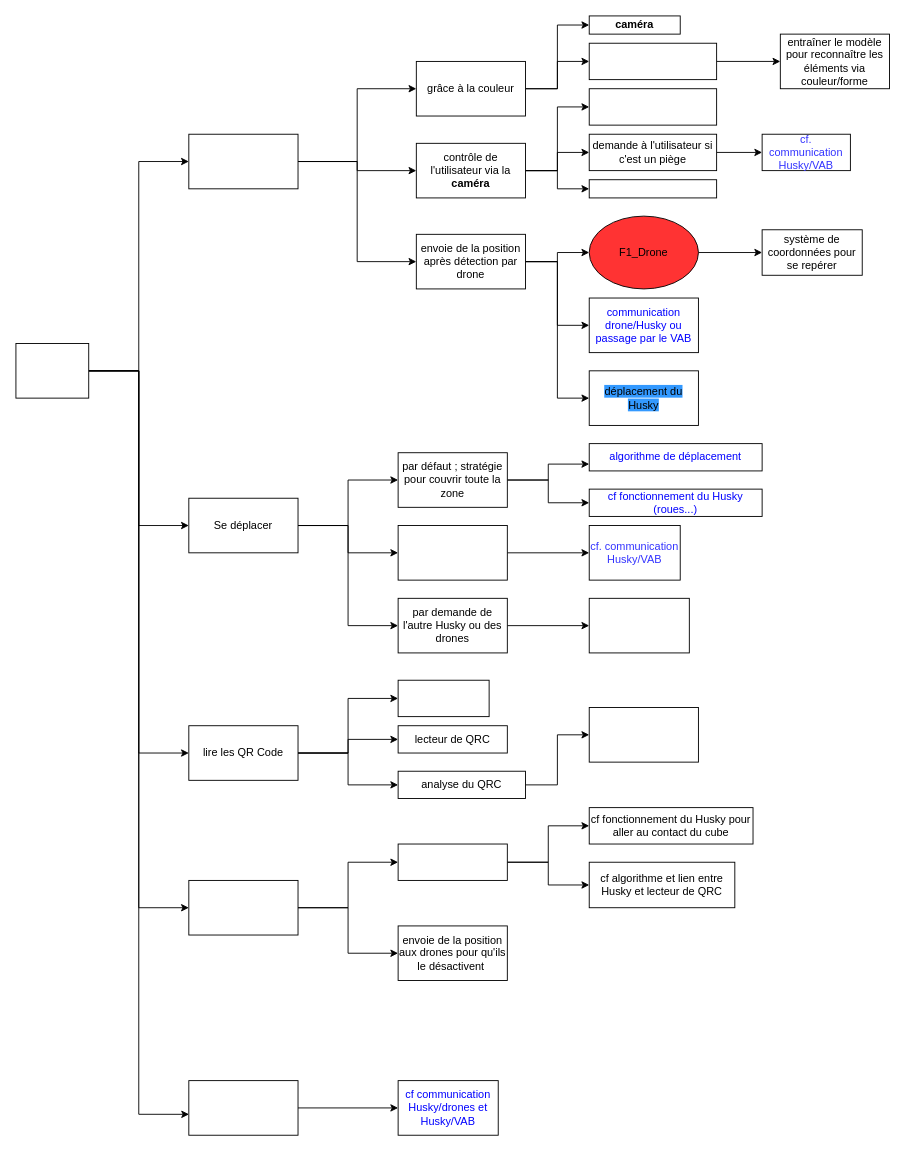
This 905x1151 diagram has some shape labels left out. Each missing label, with the centre of its shape:
"fouiller le cube" pour trouver le QRC: point (443, 698)
cf communication Husky/drones: point (638, 625)
Désamorcer les pièges: point (243, 907)
Détecter les pièges: point (243, 161)
détection en le prenant pour un obstacle/en le heurtant: point (652, 106)
Envoyer les CR au drone ou au VAB: point (243, 1107)
Husky: point (52, 370)
lire la couleur de la caméra et l'associer à un élément du décor: point (652, 61)
par commande de l'utilisateur: point (452, 552)
par pression: point (452, 861)
transmission des informations: point (643, 734)
validation de l'utilisateur: point (652, 188)
